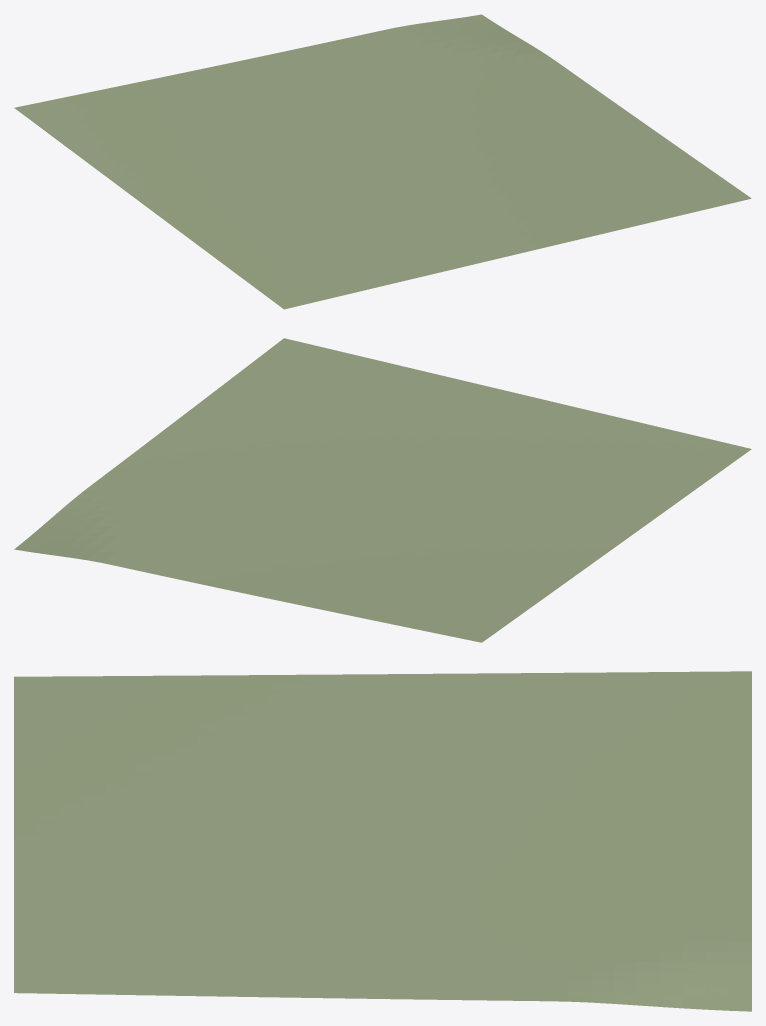
File: gardens-3-3.glb
The picture shows the model from 3 angles, top to bottom: view 1: azimuth 30°, elevation 25°; view 2: azimuth 150°, elevation 25°; view 3: azimuth 270°, elevation 25°; orthographic projection. The views are drawn at different scales.
Parts seen in each view (by area): view 1: gardens-3-3; view 2: gardens-3-3; view 3: gardens-3-3.
Boxes of the visible parts, <box> form: gardens-3-3: <box>14,14,751,309</box>; gardens-3-3: <box>14,338,751,642</box>; gardens-3-3: <box>14,671,751,1011</box>.
Bounding box in the file's own units: 256 × 10.89 × 256.
